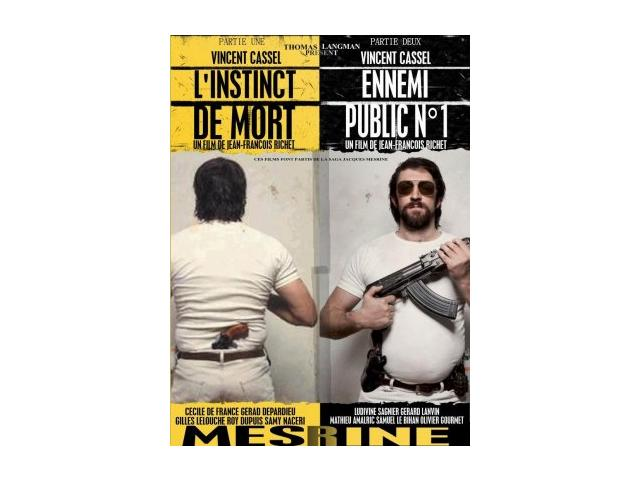rifle: (357, 235, 471, 340)
